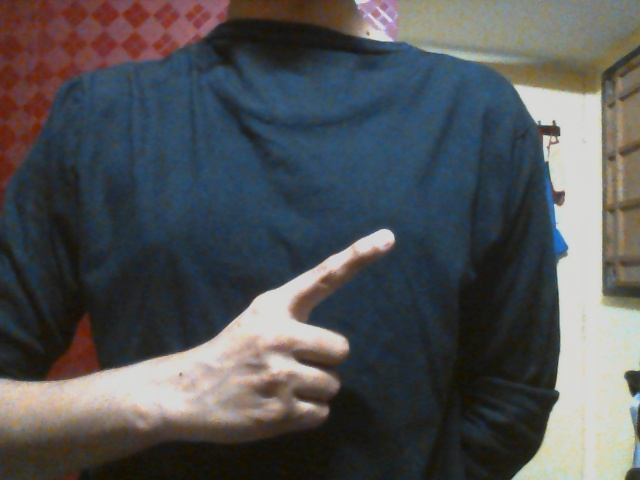I: (207, 227, 399, 445)
